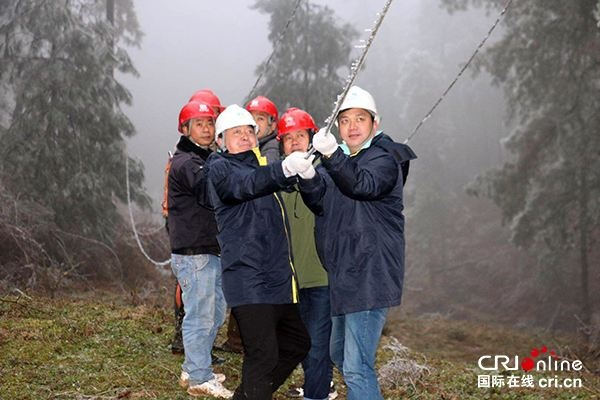red: (177, 99, 216, 148), (278, 105, 316, 153), (245, 96, 278, 137)
white: (212, 103, 257, 155), (337, 83, 375, 143)
